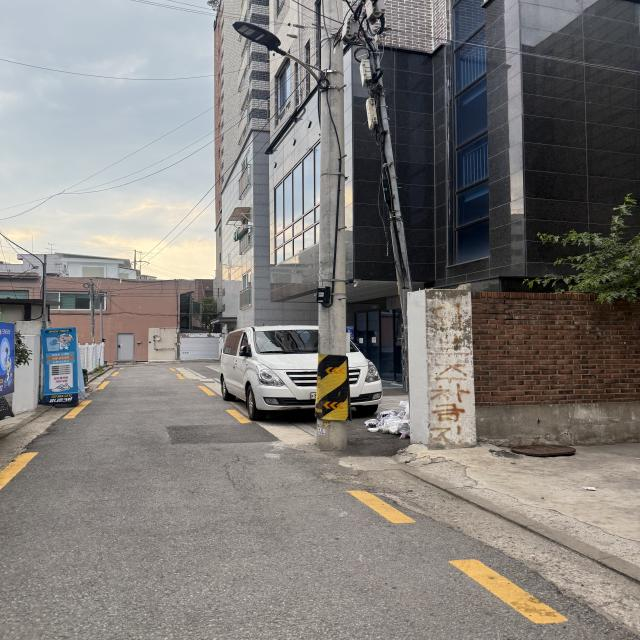car: (211, 314, 407, 451)
